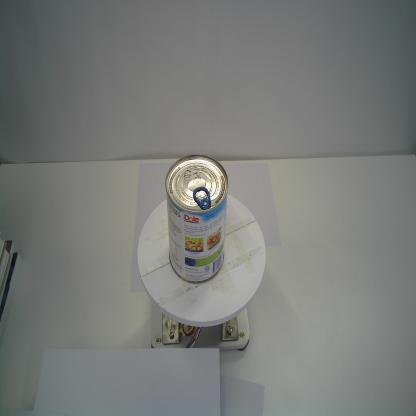Canned Food: (164, 152, 230, 286)
